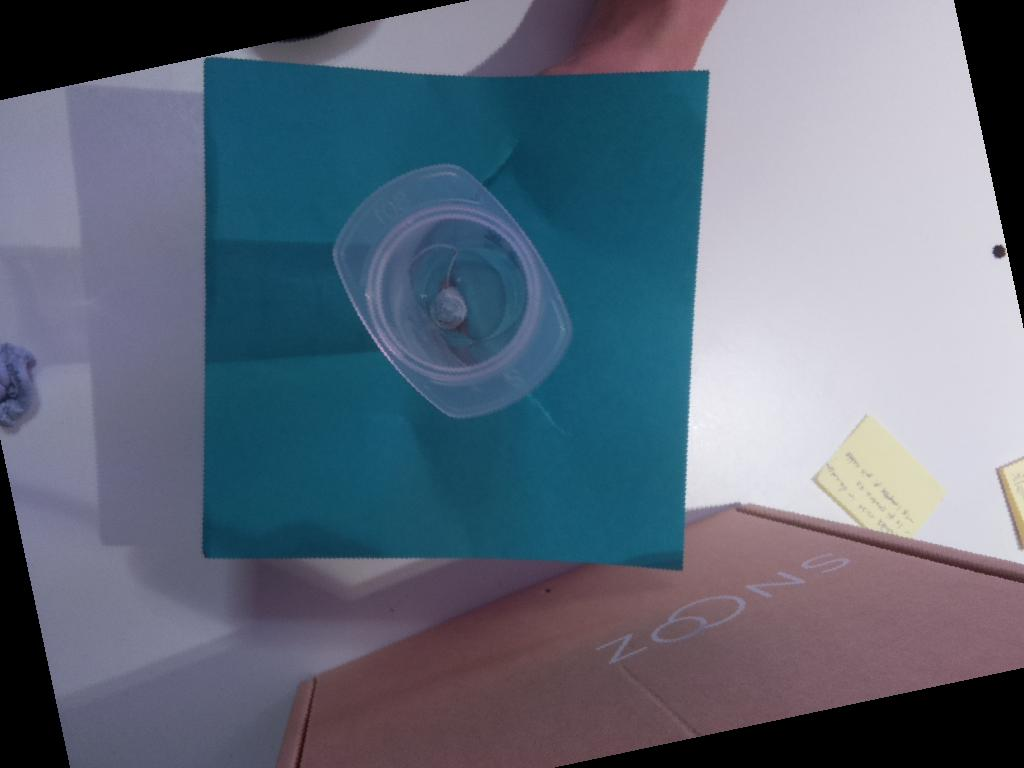clean: (331, 163, 575, 421)
